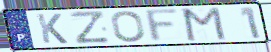1: (240, 6, 263, 40)
F: (143, 7, 181, 44)
K: (35, 13, 70, 45)
M: (181, 6, 228, 42)
O: (110, 10, 147, 43)
Z: (68, 10, 112, 46)
